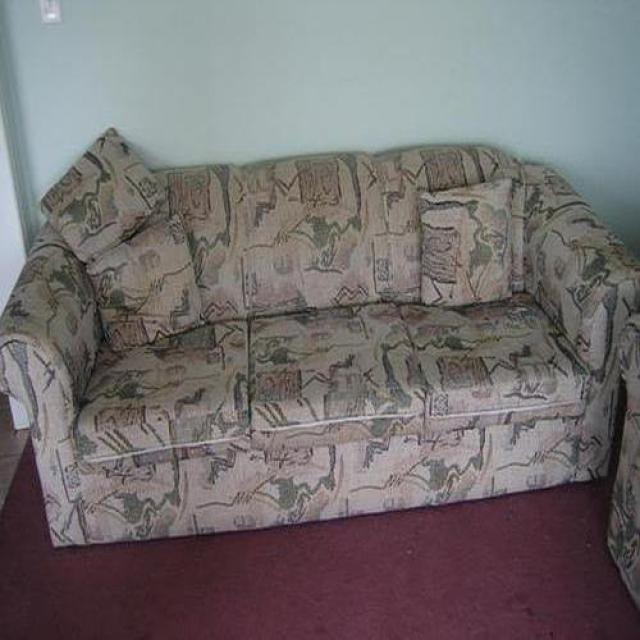sofa: (0, 128, 640, 640)
